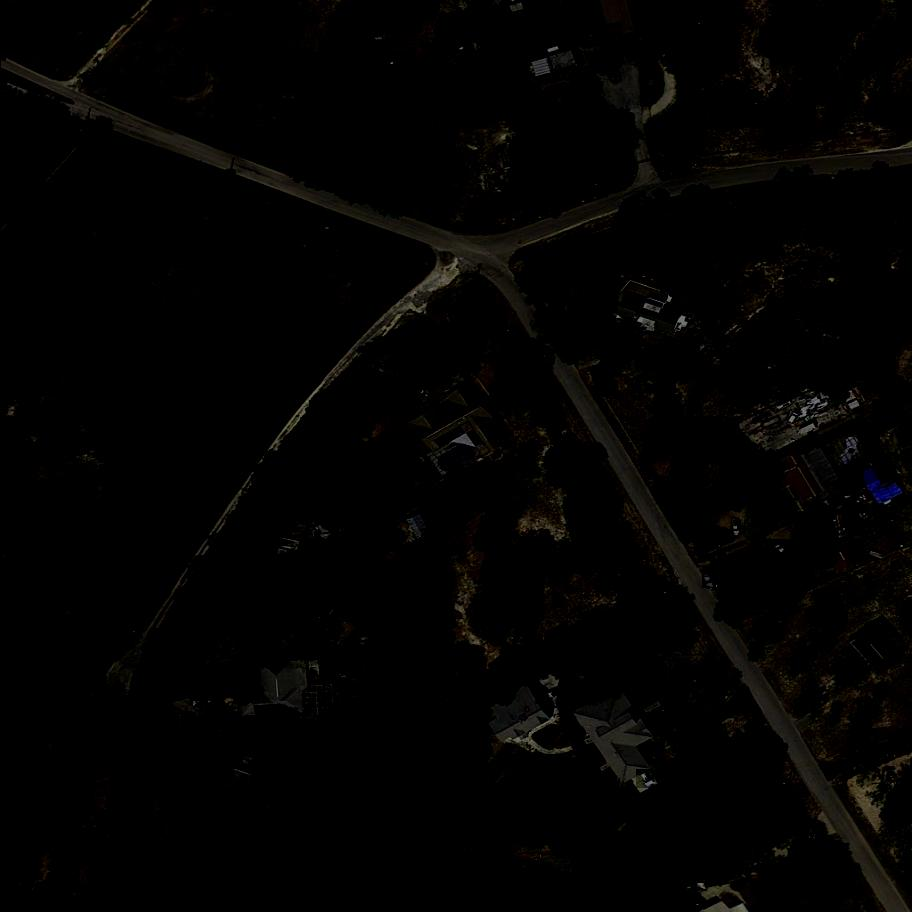large-vehicle: (536, 687, 563, 705), (702, 566, 718, 590), (593, 365, 608, 383), (731, 519, 741, 534)
small-vehicle: (820, 494, 844, 512), (636, 769, 654, 789), (211, 725, 232, 741), (835, 497, 852, 515), (771, 539, 787, 557)
